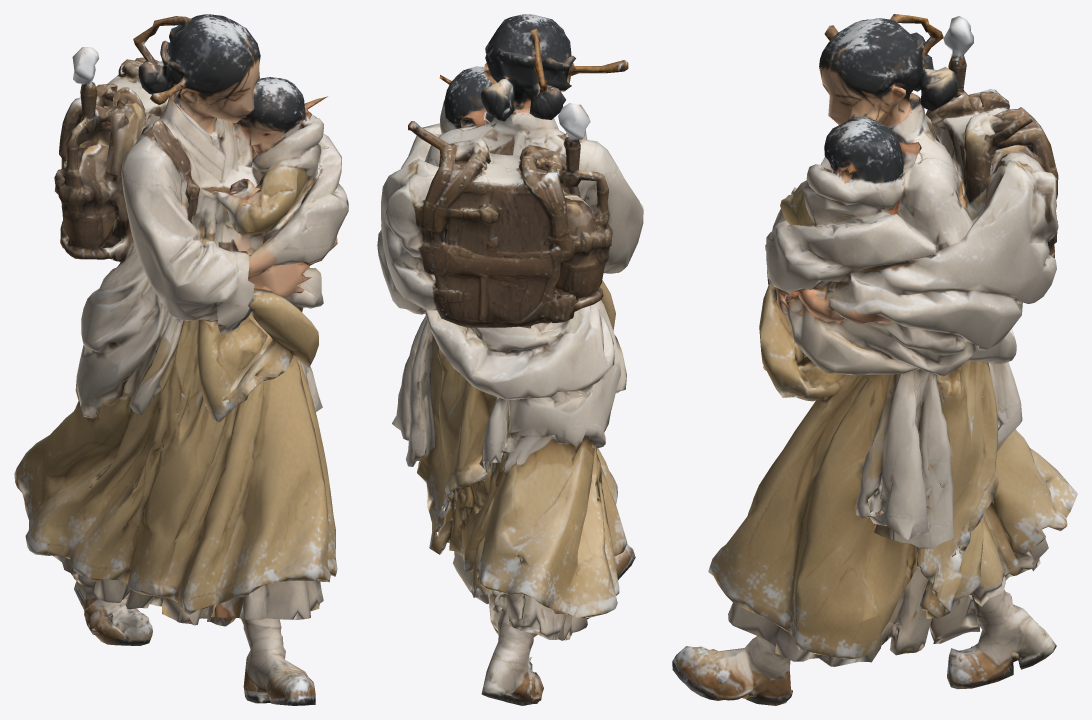
Rendered from PR_FrozenCitizen_01.fbx.
3 renders of one model, left to right at view 1: azimuth 30°, elevation 25°; view 2: azimuth 150°, elevation 25°; view 3: azimuth 270°, elevation 25°, orthographic. The views are drawn at different scales.
Parts seen in each view (by area): view 1: texture_mapping; view 2: texture_mapping; view 3: texture_mapping.
Part boxes in pixels (bbox=[...]): texture_mapping: bbox=[14, 14, 348, 705]; texture_mapping: bbox=[377, 14, 643, 705]; texture_mapping: bbox=[672, 14, 1077, 705].
Size of the model in its own units: 0.4181 by 0.5398 by 0.9984.
1 material, 1 textured.
